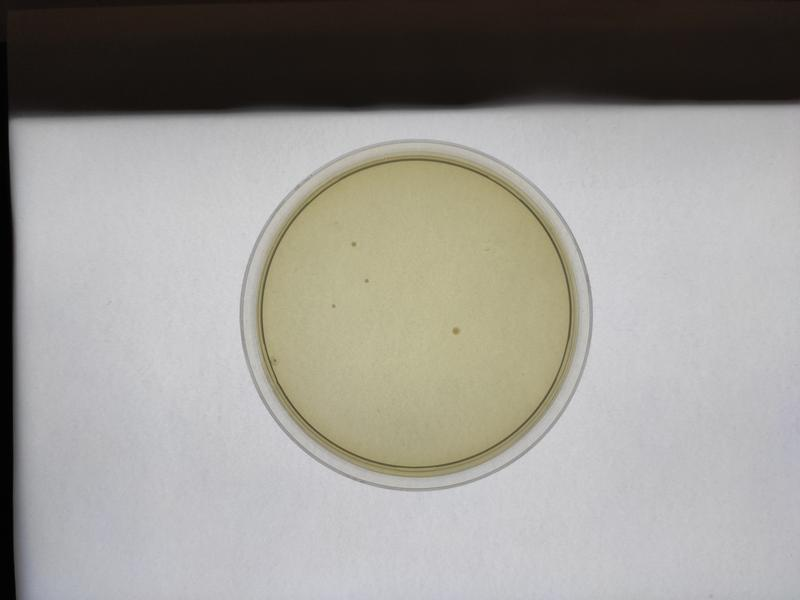colony: (446, 323, 465, 337), (326, 300, 338, 314), (348, 237, 358, 251), (361, 276, 371, 287)
